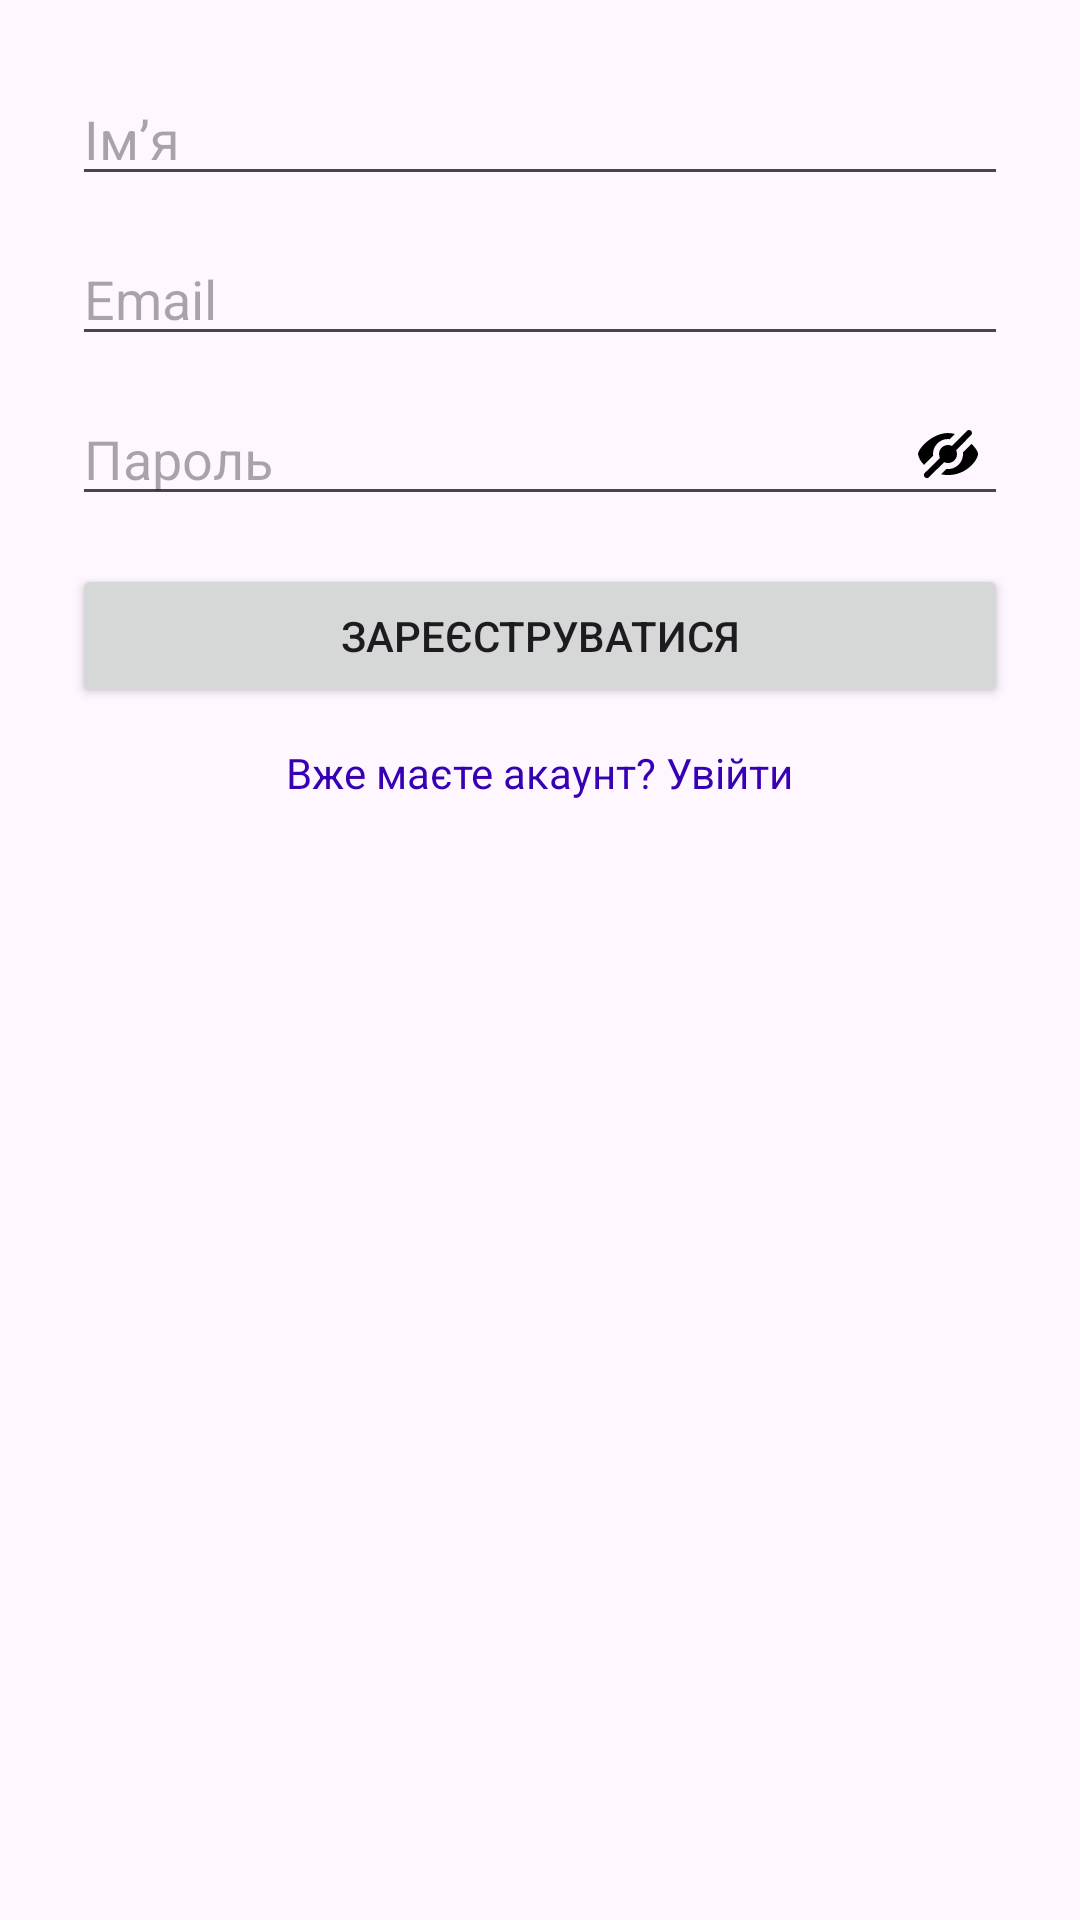

Screen size 1080×1920. Icon name, then its box in pixels as (x1, y1, x2, y2):
visibility off: (918, 430, 978, 478)
